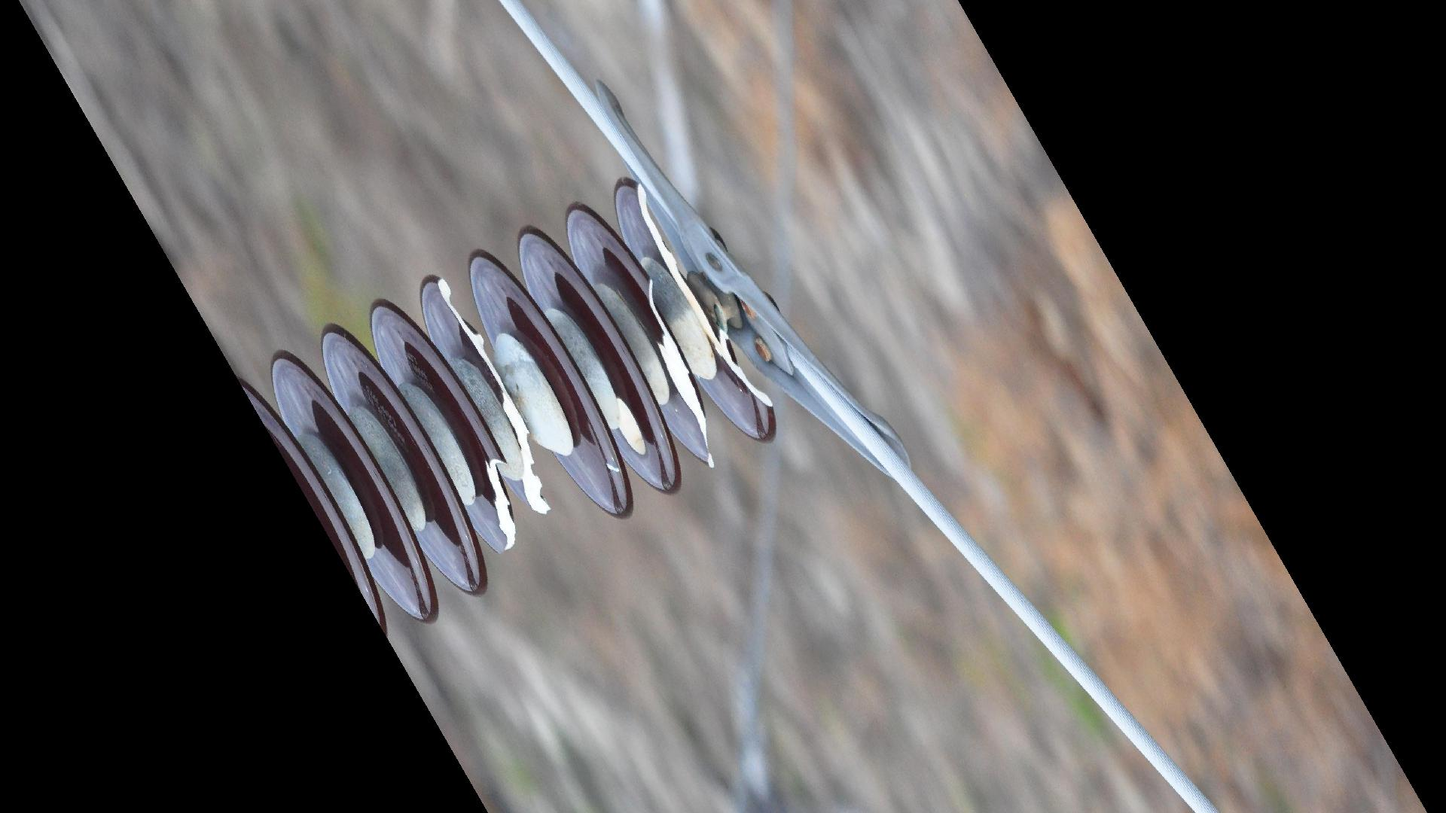insulator: (231, 172, 782, 639)
insulator_breakage: (629, 178, 779, 416), (427, 271, 562, 521), (641, 273, 724, 474), (476, 449, 527, 559)
